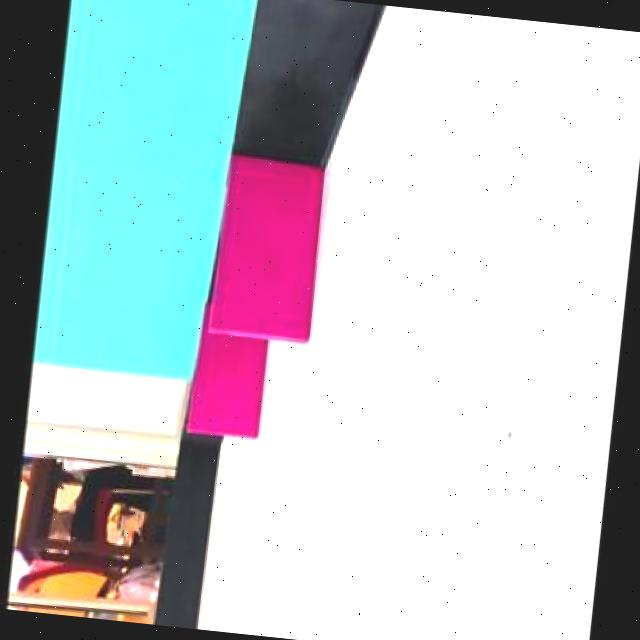xparking: (212, 160, 322, 340), (189, 333, 266, 436)
